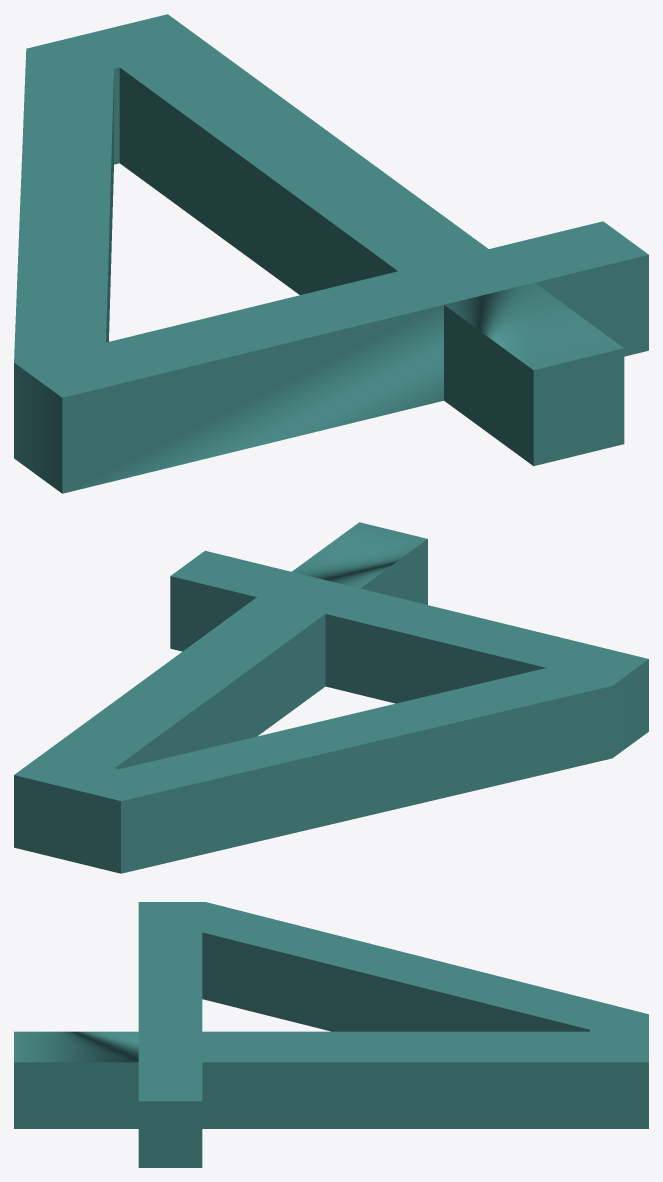
The model's file is Four.fbx.
The picture shows the model from 3 angles, top to bottom: view 1: azimuth 30°, elevation 25°; view 2: azimuth 150°, elevation 25°; view 3: azimuth 270°, elevation 25°; orthographic projection. The views are drawn at different scales.
Visible parts, largest first — view 1: Four; view 2: Four; view 3: Four.
Part boxes in pixels (x1,y1,x2,y2): Four: (14, 14, 648, 493); Four: (14, 522, 648, 873); Four: (14, 902, 648, 1167).
Size of the model in its own units: 0.1607 by 0.0251 by 0.2165.
